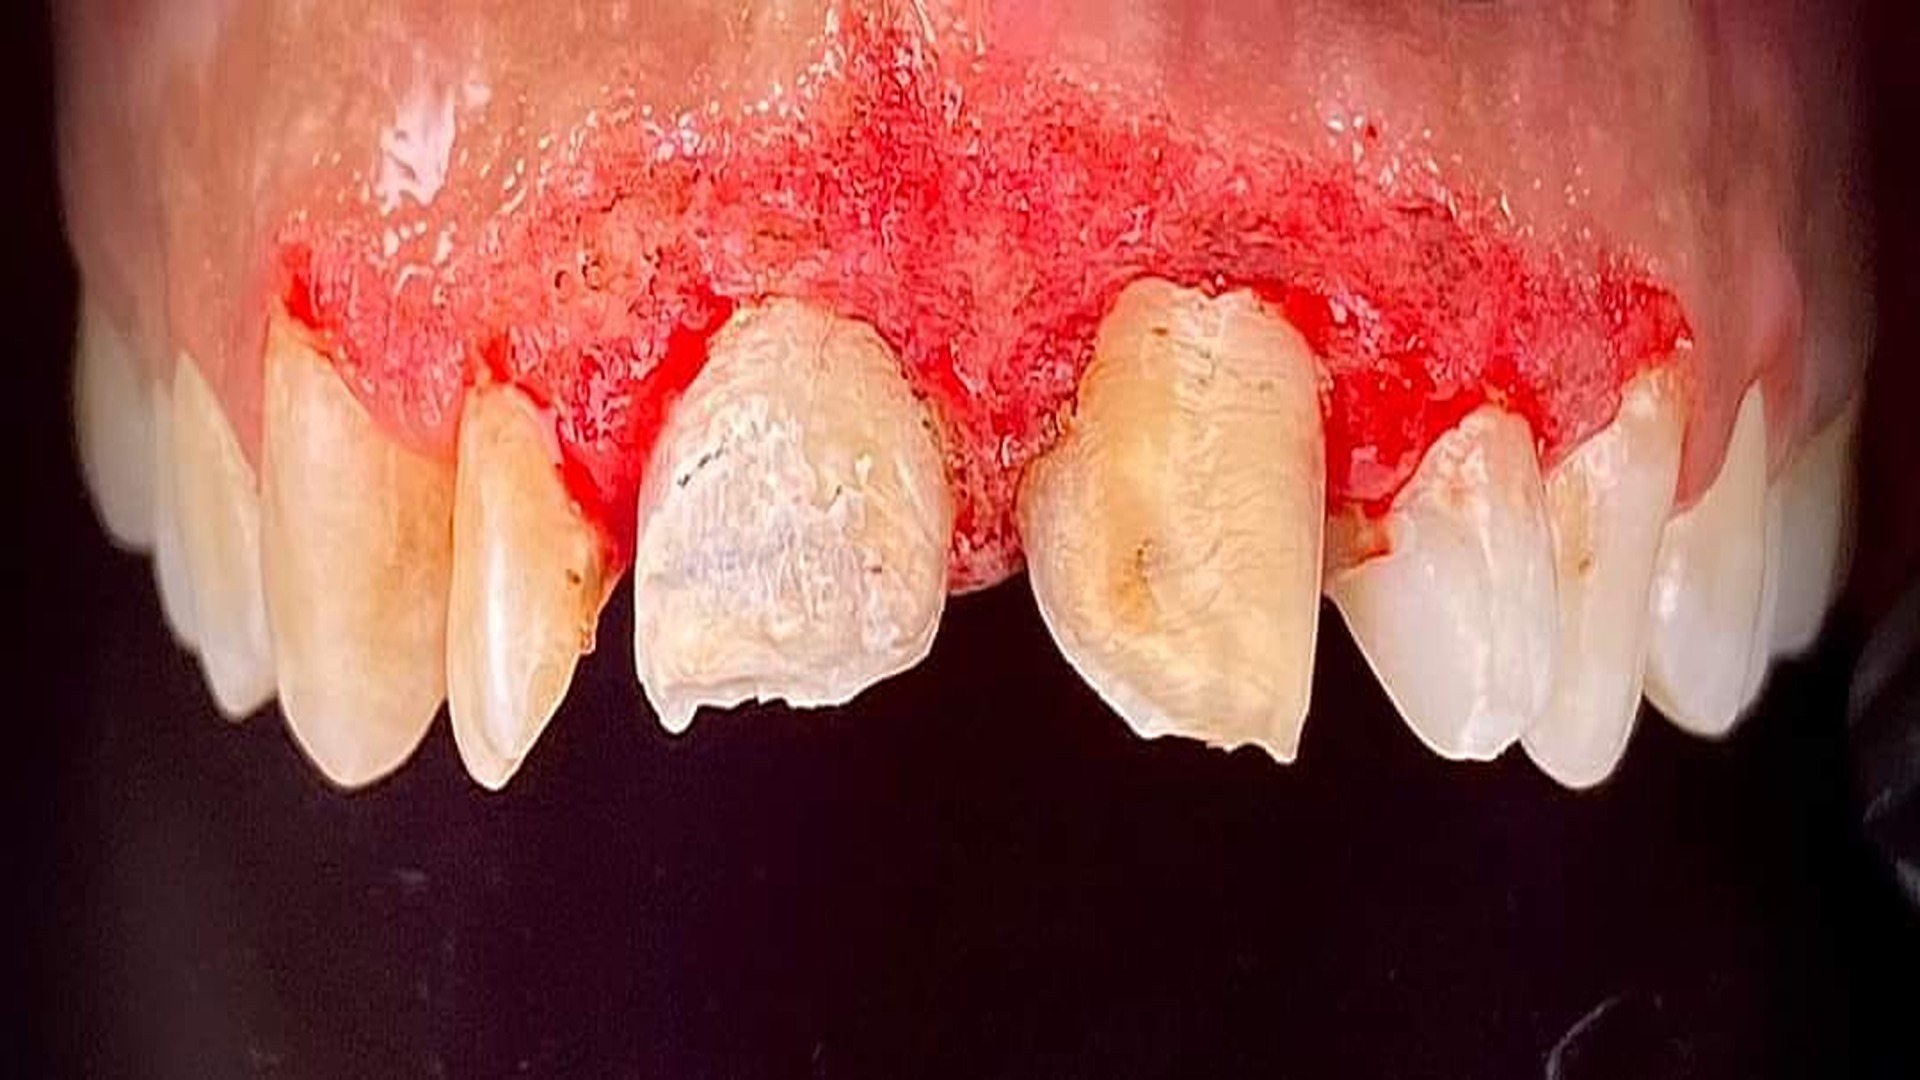tooth: (1017, 276, 1327, 764), (634, 297, 955, 733), (258, 310, 454, 789), (1323, 404, 1560, 761), (1520, 375, 1683, 789), (444, 382, 599, 791), (1643, 382, 1778, 738), (156, 351, 278, 723), (1768, 415, 1851, 659), (76, 299, 156, 554)
